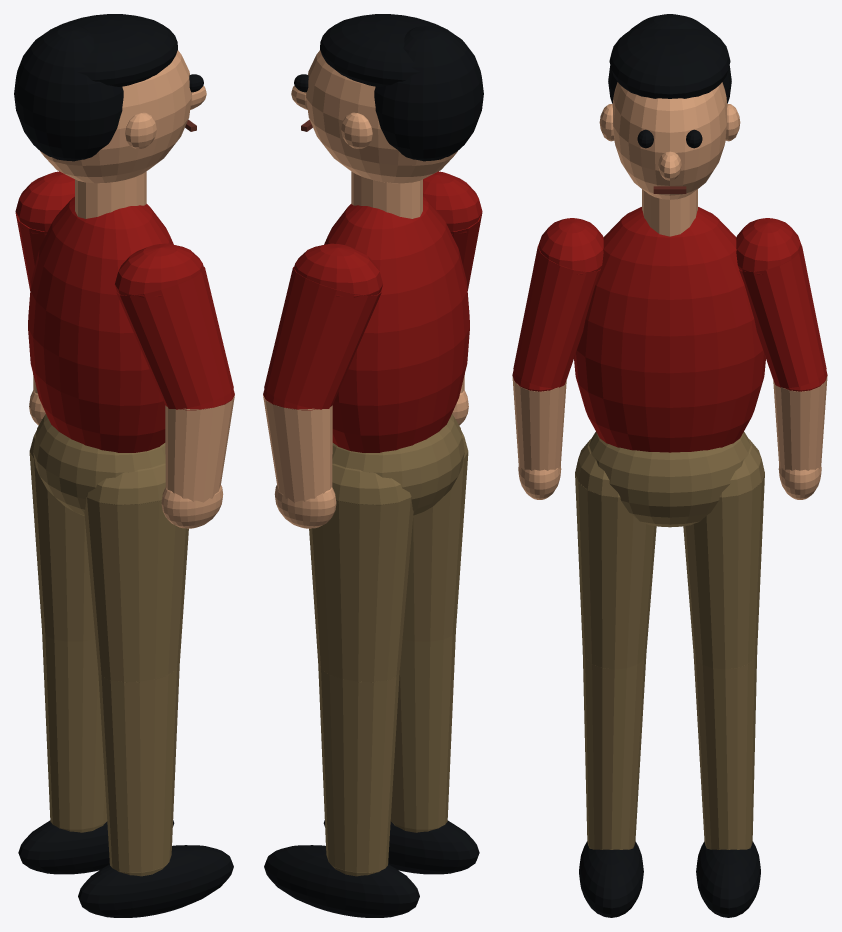
Rendered from person_13.dae.
3 renders of one model, left to right at view 1: azimuth 30°, elevation 25°; view 2: azimuth 150°, elevation 25°; view 3: azimuth 270°, elevation 25°, orthographic.
Visible parts, largest first — view 1: part0node, part2node, part1node, part3node; view 2: part0node, part2node, part1node, part3node; view 3: part2node, part0node, part3node, part1node.
Part boxes in pixels (x1=…): part0node: x1=29, y1=414, x2=188, y2=876; part2node: x1=15, y1=171, x2=234, y2=452; part1node: x1=14, y1=14, x2=233, y2=917; part3node: x1=29, y1=50, x2=234, y2=528; part0node: x1=309, y1=414, x2=468, y2=876; part2node: x1=263, y1=171, x2=482, y2=452; part1node: x1=264, y1=14, x2=483, y2=917; part3node: x1=263, y1=50, x2=468, y2=528; part2node: x1=512, y1=207, x2=827, y2=452; part0node: x1=575, y1=432, x2=764, y2=849; part3node: x1=512, y1=82, x2=827, y2=499; part1node: x1=579, y1=14, x2=760, y2=917.
Size of the model in its own units: 0.033 by 0.05 by 0.15.
